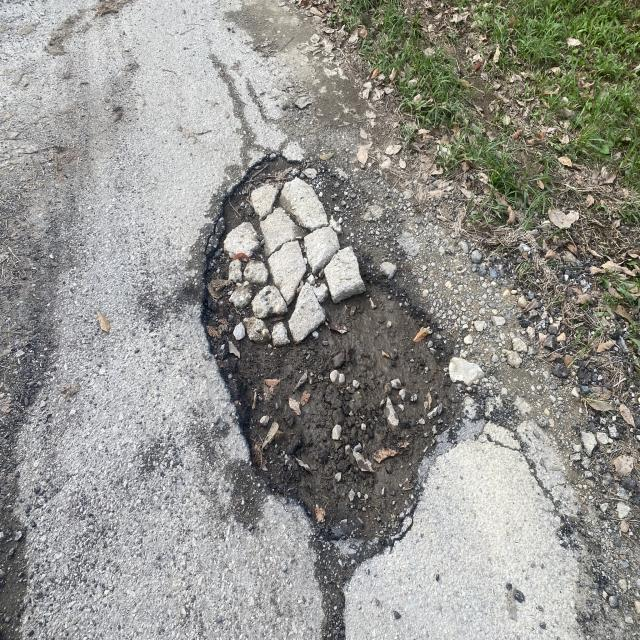Pothole: (171, 98, 504, 614)
